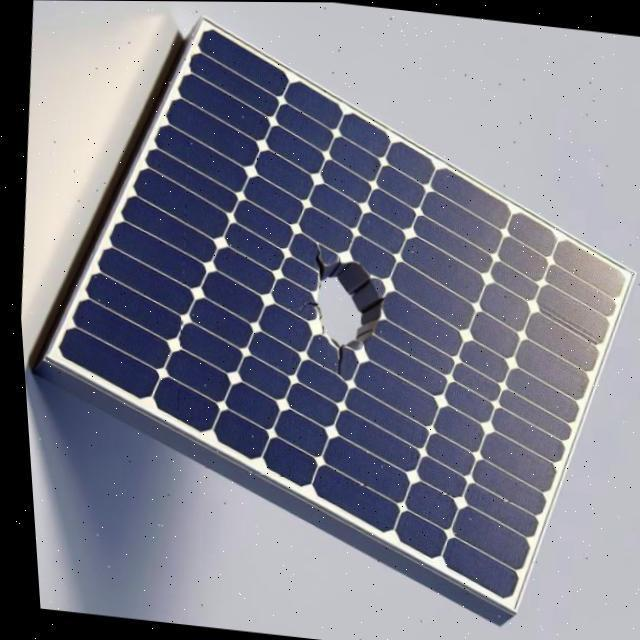Anomaly Solar Panel: (35, 17, 640, 608)
Structural Damage: (273, 230, 405, 380)
